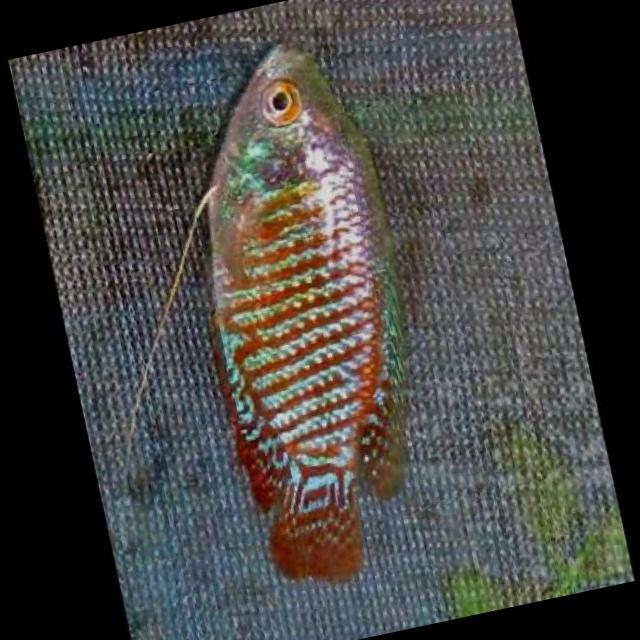Gourami: (138, 21, 466, 604)
